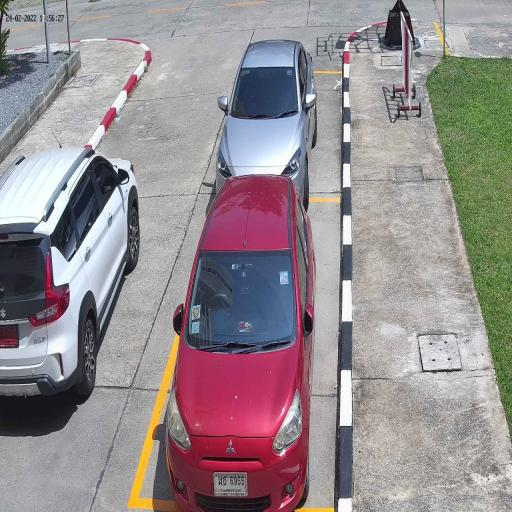car: (164, 173, 318, 509), (0, 143, 142, 406), (214, 38, 318, 217)
